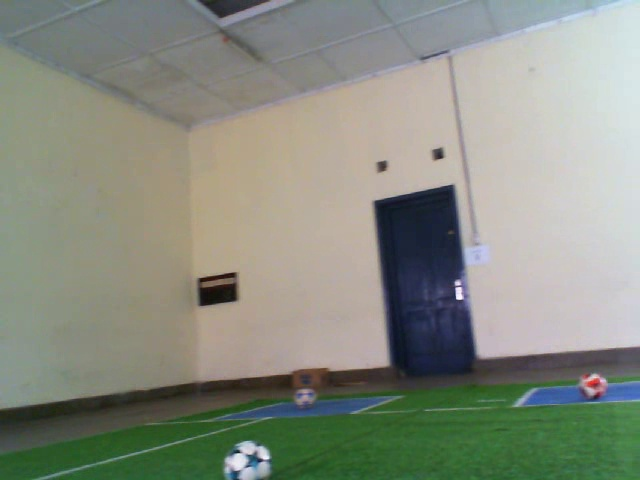ball: (220, 438, 275, 480), (576, 370, 610, 403), (292, 385, 320, 412)
